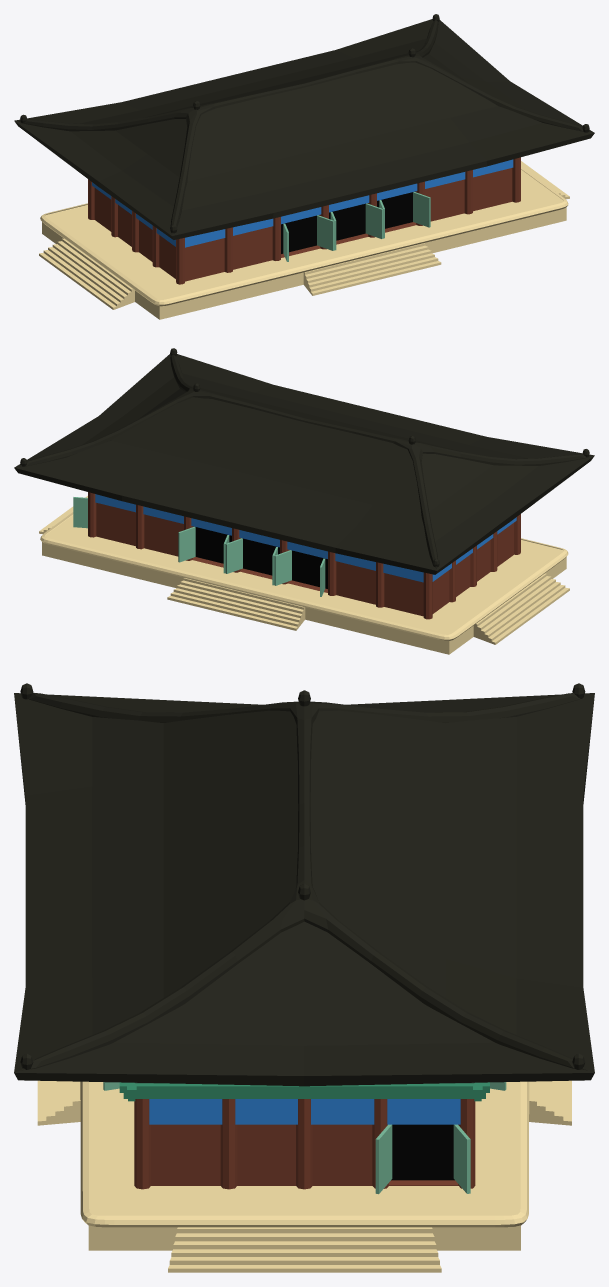
The model's file is temple.glb.
3 views of the same model, one above another, from view 1: azimuth 30°, elevation 25°; view 2: azimuth 150°, elevation 25°; view 3: azimuth 270°, elevation 25° (orthographic). The views are drawn at different scales.
Visible parts, largest first — view 1: Roof, Platform, Walls, Stairs, RoofBorder, Columns, Decor, Shutters; view 2: Roof, Platform, Walls, Stairs, RoofBorder, Columns, Decor, Shutters; view 3: Roof, Platform, RoofBorder, Stairs, Walls, Decor, Columns, Beams, Shutters, Statues.
Part boxes in pixels (x1=…): Roof: x1=14, y1=19, x2=594, y2=239; Platform: x1=40, y1=166, x2=568, y2=319; Walls: x1=94, y1=168, x2=512, y2=281; Stairs: x1=39, y1=161, x2=569, y2=309; RoofBorder: x1=18, y1=20, x2=590, y2=233; Columns: x1=88, y1=157, x2=520, y2=284; Decor: x1=92, y1=159, x2=513, y2=247; Shutters: x1=283, y1=192, x2=430, y2=261; Roof: x1=14, y1=354, x2=594, y2=574; Platform: x1=40, y1=512, x2=568, y2=654; Walls: x1=96, y1=503, x2=513, y2=616; Stairs: x1=39, y1=496, x2=569, y2=644; RoofBorder: x1=19, y1=354, x2=589, y2=568; Columns: x1=88, y1=492, x2=520, y2=619; Decor: x1=95, y1=494, x2=516, y2=582; Shutters: x1=73, y1=497, x2=325, y2=596; Roof: x1=14, y1=693, x2=594, y2=1086; Platform: x1=80, y1=1081, x2=529, y2=1250; RoofBorder: x1=21, y1=692, x2=587, y2=1070; Stairs: x1=37, y1=1080, x2=571, y2=1272; Walls: x1=135, y1=1082, x2=474, y2=1185; Decor: x1=149, y1=1099, x2=460, y2=1124; Columns: x1=134, y1=1099, x2=475, y2=1189; Beams: x1=119, y1=1082, x2=489, y2=1101; Shutters: x1=103, y1=1082, x2=506, y2=1194; Statues: x1=20, y1=683, x2=585, y2=1069.
Size of the model in its own units: 26.92 by 8.6 by 16.12.
Materials: 1 (1 with a texture image).
